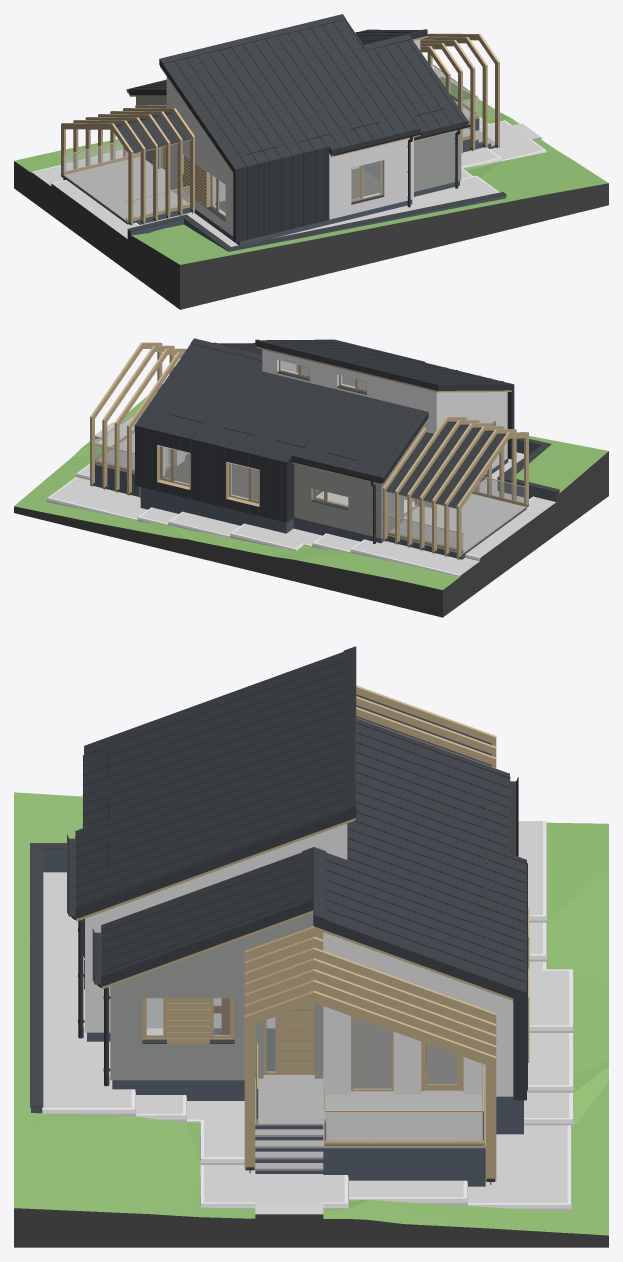
The model's file is Locuinta-2-WEB.glb.
3 views of the same model, one above another, from view 1: azimuth 30°, elevation 25°; view 2: azimuth 150°, elevation 25°; view 3: azimuth 270°, elevation 25° (orthographic). The views are drawn at different scales.
Visible parts, largest first — view 1: RWO_Optimized_1deg, Glass; view 2: RWO_Optimized_1deg, Glass; view 3: RWO_Optimized_1deg, Glass.
Part boxes in pixels (x1,y1,x2,y2): RWO_Optimized_1deg: (14,14,608,309); Glass: (183,154,380,215); RWO_Optimized_1deg: (14,338,608,617); Glass: (163,361,416,512); RWO_Optimized_1deg: (14,646,608,1247); Glass: (147,998,456,1088).
Size of the model in its own units: 20.83 by 7.57 by 13.98.
